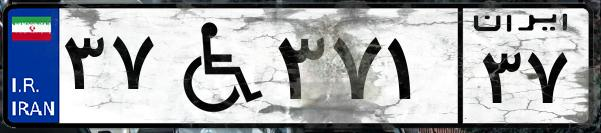1: (385, 28, 445, 110)
3: (270, 28, 330, 110), (57, 26, 110, 100), (475, 38, 525, 113)
7: (330, 28, 385, 110), (525, 38, 570, 115), (110, 28, 158, 98)
ژ (معلولین و جانبازان): (158, 12, 270, 120)
